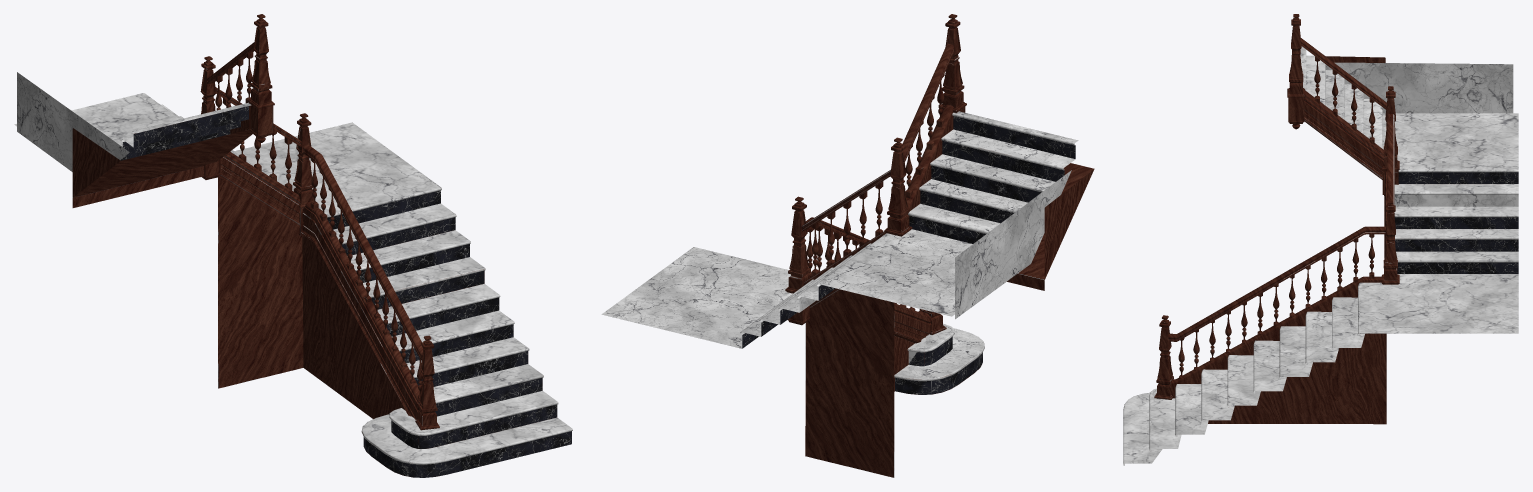
Rendered from SM_0F_Stairs.fbx.
3 views of the same model, side by side, from view 1: azimuth 30°, elevation 25°; view 2: azimuth 150°, elevation 25°; view 3: azimuth 270°, elevation 25° (orthographic). The views are drawn at different scales.
Visible parts, largest first — view 1: SM_Stair_Base; view 2: SM_Stair_Base; view 3: SM_Stair_Base.
Boxes of the visible parts, <box> form: SM_Stair_Base: <box>14,14,572,477</box>; SM_Stair_Base: <box>601,14,1094,477</box>; SM_Stair_Base: <box>1123,14,1518,465</box>.
Bounding box in the file's own units: 5.74 × 6.38 × 6.21.
1 material, 1 textured.
